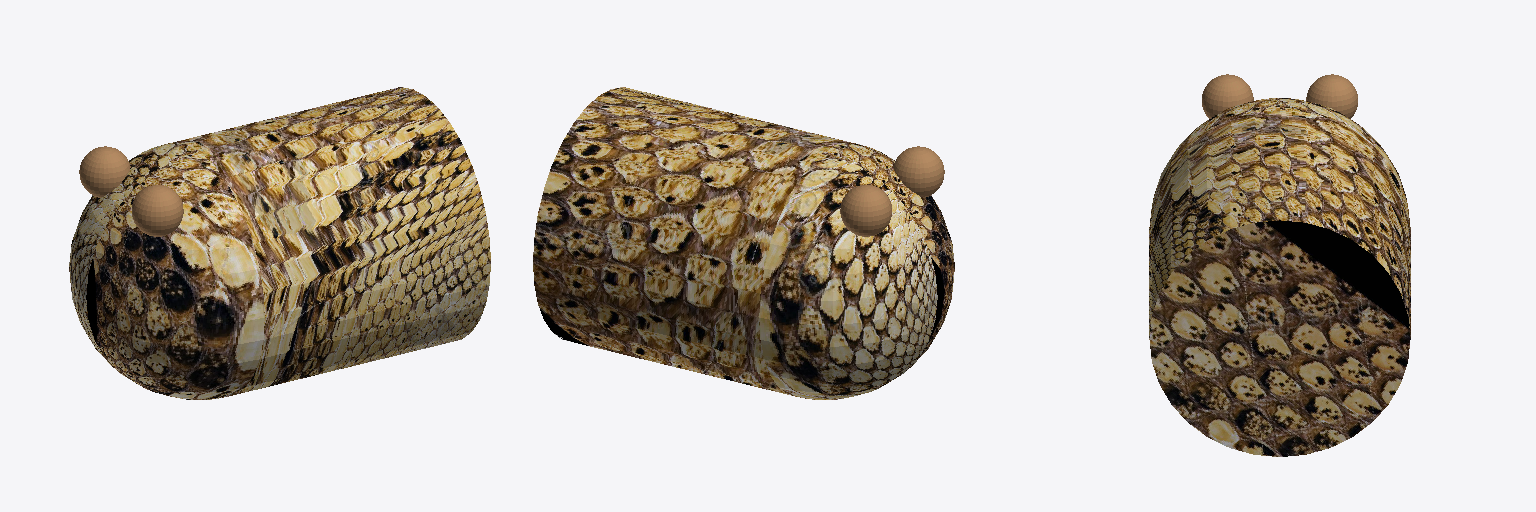
The picture shows the model from 3 angles: view 1: azimuth 30°, elevation 25°; view 2: azimuth 150°, elevation 25°; view 3: azimuth 270°, elevation 25°; orthographic projection.
Visible parts, largest first — view 1: snake_head_snake_head_snake_head_Cylinder.001; view 2: snake_head_snake_head_snake_head_Cylinder.001; view 3: snake_head_snake_head_snake_head_Cylinder.001.
Boxes of the visible parts, x1,y1,x2,y2 form: snake_head_snake_head_snake_head_Cylinder.001: [69, 87, 490, 399]; snake_head_snake_head_snake_head_Cylinder.001: [533, 87, 954, 399]; snake_head_snake_head_snake_head_Cylinder.001: [1149, 74, 1410, 456].
Bounding box in the file's own units: 1.5 × 1 × 1.
1 materials, 1 textured.